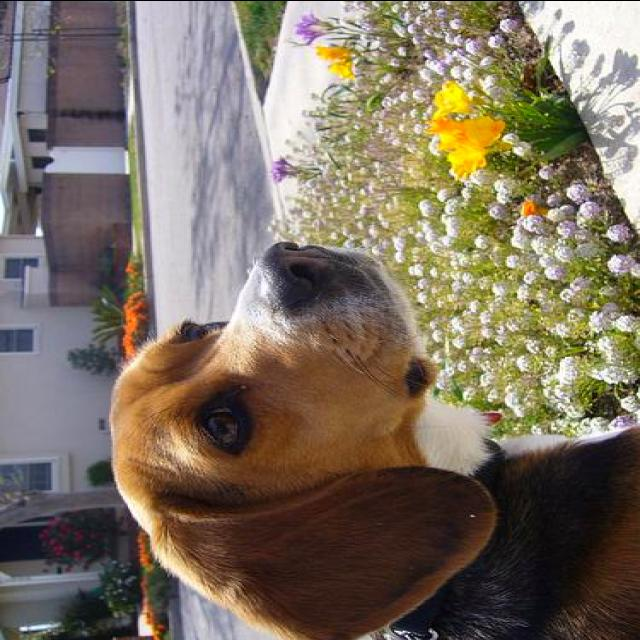beagle: (107, 241, 638, 640)
